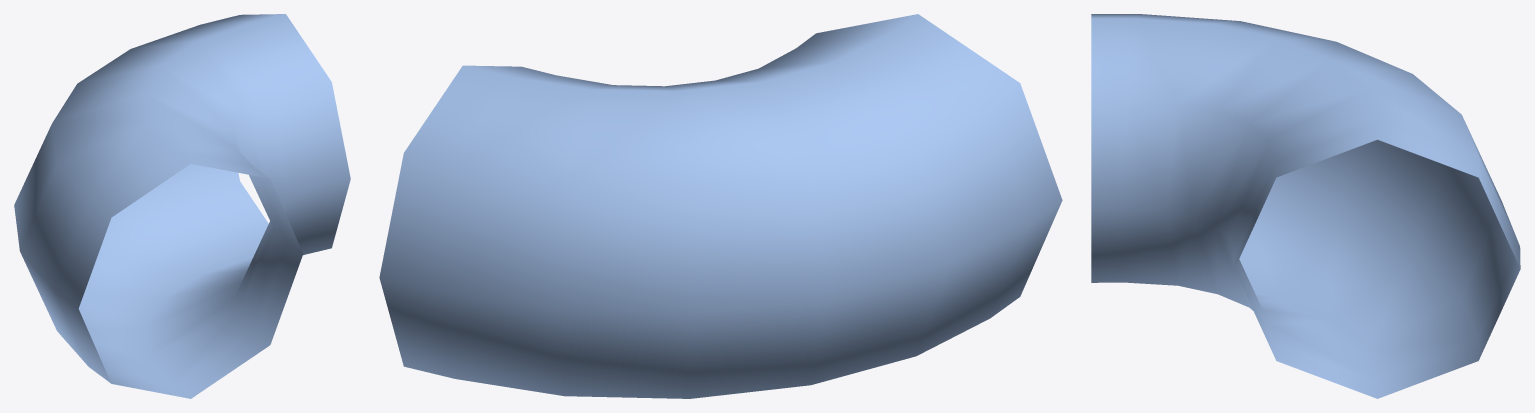
File: PipeSmall_Bent_01.fbx
3 renders of one model, left to right at view 1: azimuth 30°, elevation 25°; view 2: azimuth 150°, elevation 25°; view 3: azimuth 270°, elevation 25°, orthographic. The views are drawn at different scales.
Visible parts, largest first — view 1: PipeSmall_Bent_01.001; view 2: PipeSmall_Bent_01.001; view 3: PipeSmall_Bent_01.001.
Boxes of the visible parts, x1,y1,x2,y2 form: PipeSmall_Bent_01.001: [14, 14, 350, 398]; PipeSmall_Bent_01.001: [379, 14, 1062, 398]; PipeSmall_Bent_01.001: [1091, 14, 1520, 398].
Bounding box in the file's own units: 0.15 × 0.1 × 0.15.
